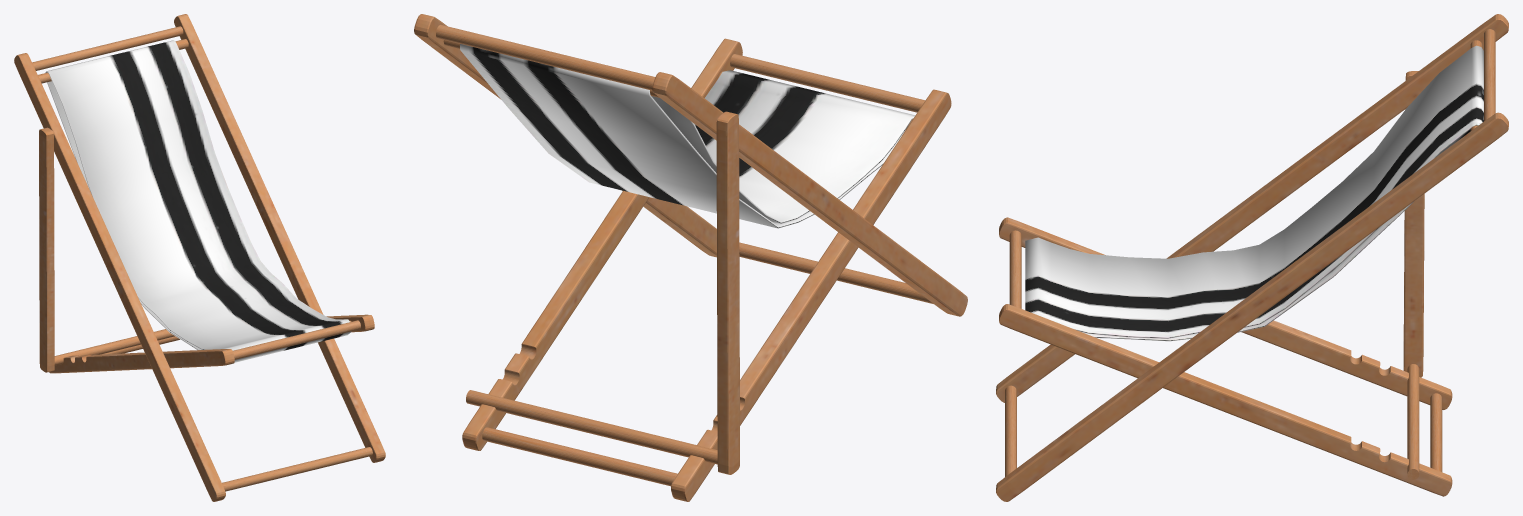
The model's file is Chair02.fbx.
3 renders of one model, left to right at view 1: azimuth 30°, elevation 25°; view 2: azimuth 150°, elevation 25°; view 3: azimuth 270°, elevation 25°, orthographic. The views are drawn at different scales.
Parts seen in each view (by area): view 1: beachchair; view 2: beachchair; view 3: beachchair.
Part boxes in pixels (x1,y1,x2,y2): beachchair: (14,14,385,501); beachchair: (414,14,967,501); beachchair: (996,14,1508,501).
Bounding box in the file's own units: 72.28 × 118 × 142.
2 materials, 2 textured.
